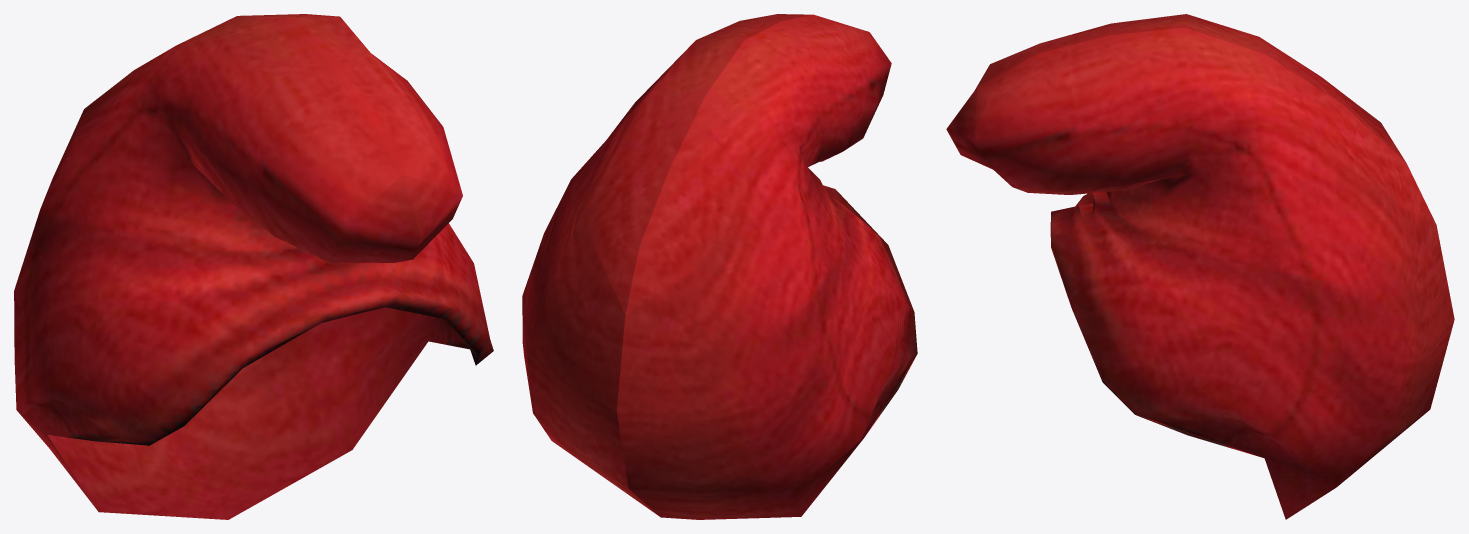
File: hat.fbx
The picture shows the model from 3 angles, left to right: view 1: azimuth 30°, elevation 25°; view 2: azimuth 150°, elevation 25°; view 3: azimuth 270°, elevation 25°; orthographic projection. The views are drawn at different scales.
Visible parts, largest first — view 1: HAT; view 2: HAT; view 3: HAT.
Boxes of the visible parts, x1=… form: HAT: x1=14, y1=14, x2=493, y2=519; HAT: x1=522, y1=14, x2=917, y2=519; HAT: x1=946, y1=14, x2=1454, y2=519.
Bounding box in the file's own units: 63.34 × 80.19 × 78.52.
Materials: 1 (1 with a texture image).
